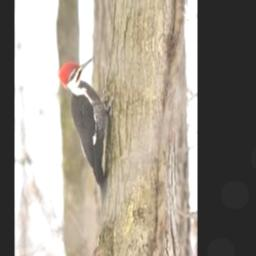Woodpecker: (57, 56, 118, 216)
